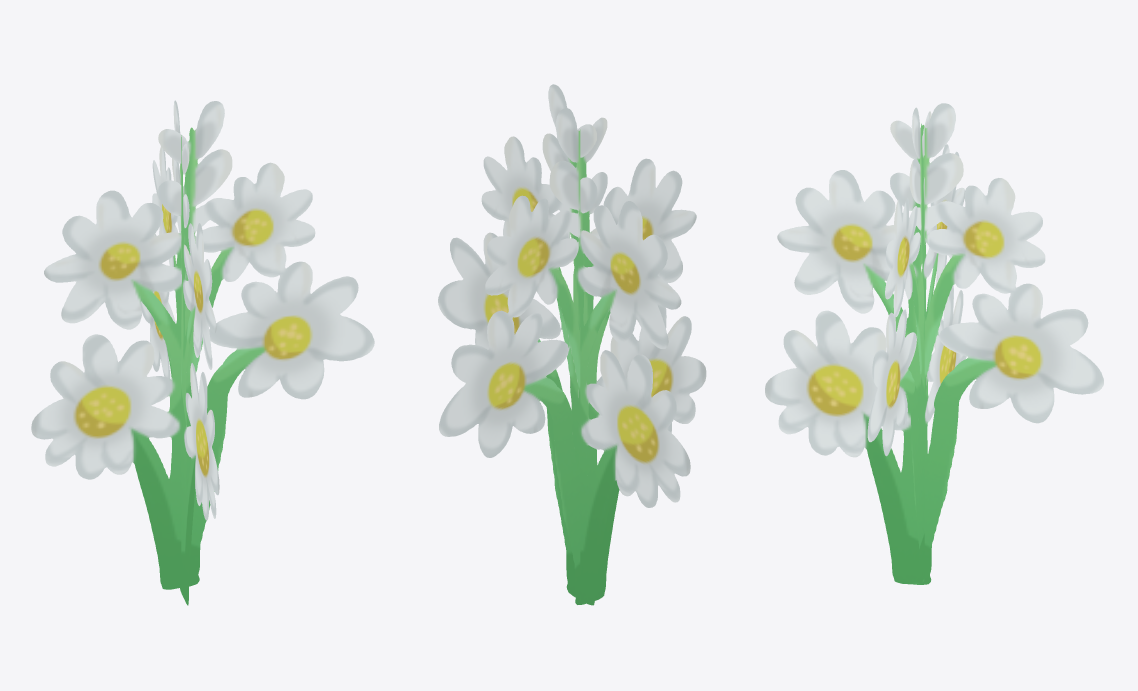
Rendered from Margaritas.fbx.
3 renders of one model, left to right at view 1: azimuth 30°, elevation 25°; view 2: azimuth 150°, elevation 25°; view 3: azimuth 270°, elevation 25°, orthographic. The views are drawn at different scales.
Visible parts, largest first — view 1: Margaritas; view 2: Margaritas; view 3: Margaritas.
Part boxes in pixels (x1,y1,x2,y2): Margaritas: [31, 100, 374, 605]; Margaritas: [438, 84, 706, 605]; Margaritas: [765, 103, 1103, 584].
Size of the model in its own units: 85.4 by 128 by 85.4.
